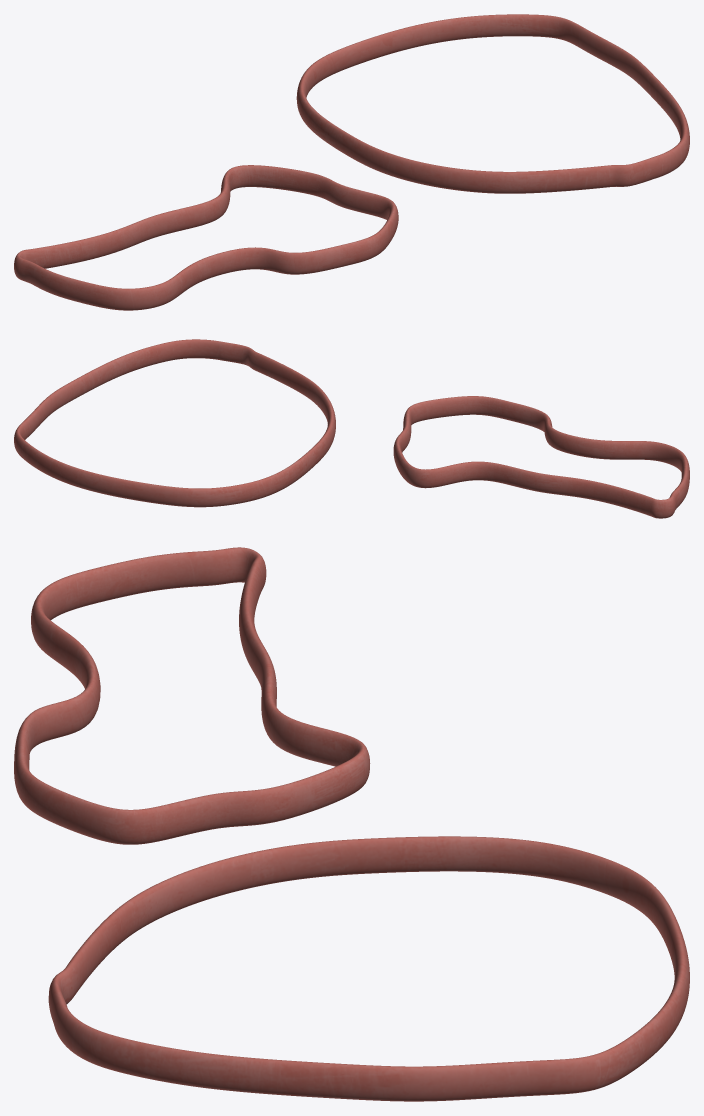
File: Rubber_Bands.fbx
3 renders of one model, top to bottom at view 1: azimuth 30°, elevation 25°; view 2: azimuth 150°, elevation 25°; view 3: azimuth 270°, elevation 25°, orthographic. The views are drawn at different scales.
Visible parts, largest first — view 1: Rubber_Band_2, Rubber_Band_1; view 2: Rubber_Band_2, Rubber_Band_1; view 3: Rubber_Band_2, Rubber_Band_1.
Part boxes in pixels (x1,y1,x2,y2): Rubber_Band_2: (296, 14, 689, 193); Rubber_Band_1: (14, 165, 398, 310); Rubber_Band_2: (14, 339, 335, 507); Rubber_Band_1: (393, 396, 689, 518); Rubber_Band_2: (48, 836, 689, 1101); Rubber_Band_1: (14, 547, 370, 844).
Size of the model in its own units: 0.1305 by 0.00399 by 0.0709.
Materials: 2 (2 with a texture image).
